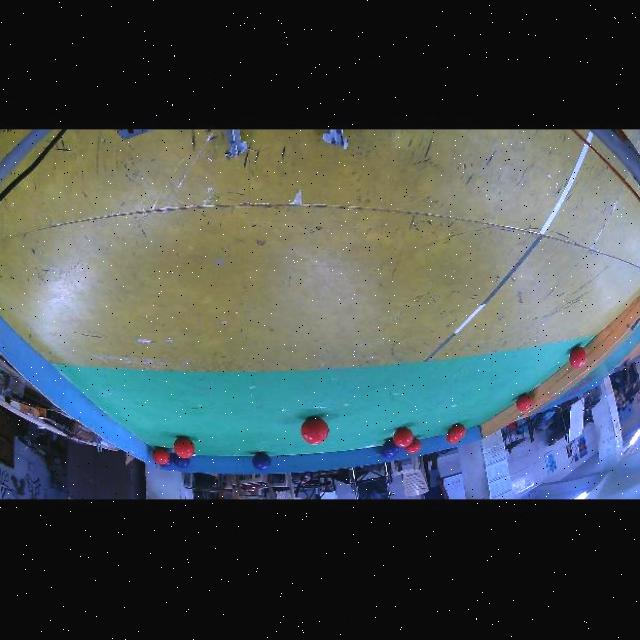P: (383, 439, 401, 457), (253, 454, 271, 471), (173, 455, 190, 469), (381, 450, 395, 460), (160, 459, 173, 469)
R: (300, 418, 328, 445), (174, 437, 195, 459), (393, 428, 413, 449), (569, 347, 587, 370), (152, 448, 170, 466), (449, 424, 466, 442), (516, 395, 532, 413), (406, 439, 421, 455), (446, 432, 458, 445)
